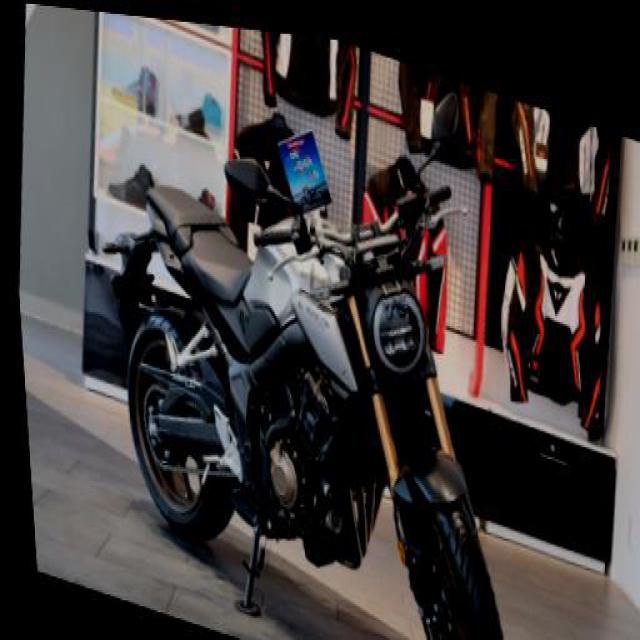CB650R: (85, 123, 539, 638)
